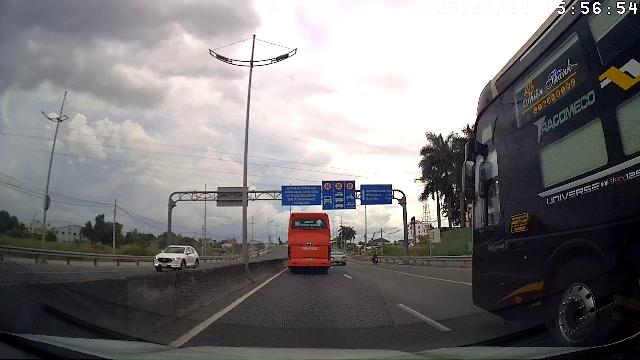127-toc-do-toi-da-60: (323, 181, 332, 191), (334, 182, 344, 190), (346, 182, 354, 190)
